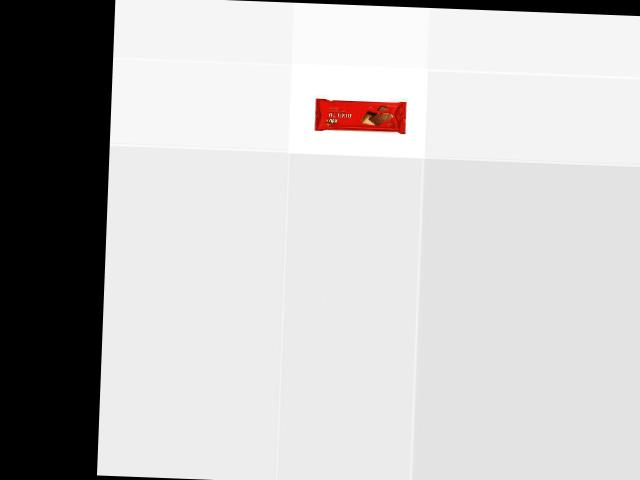chocolate: (311, 97, 405, 133)
